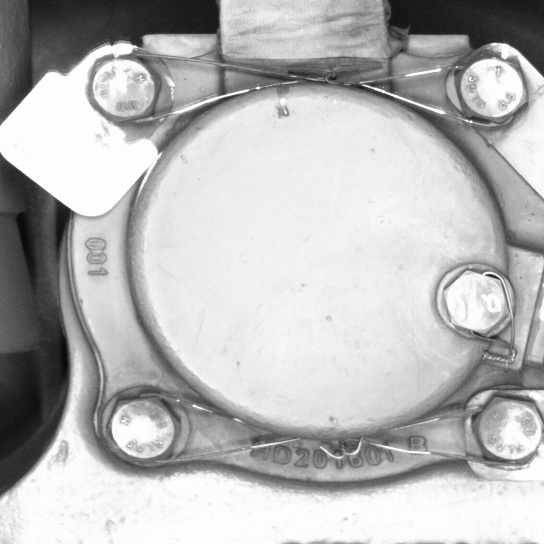IronWire: (93, 382, 542, 476), (81, 42, 537, 134)
Screw: (92, 384, 192, 474), (79, 42, 173, 131), (431, 259, 519, 345), (444, 48, 533, 133), (461, 383, 542, 476)
